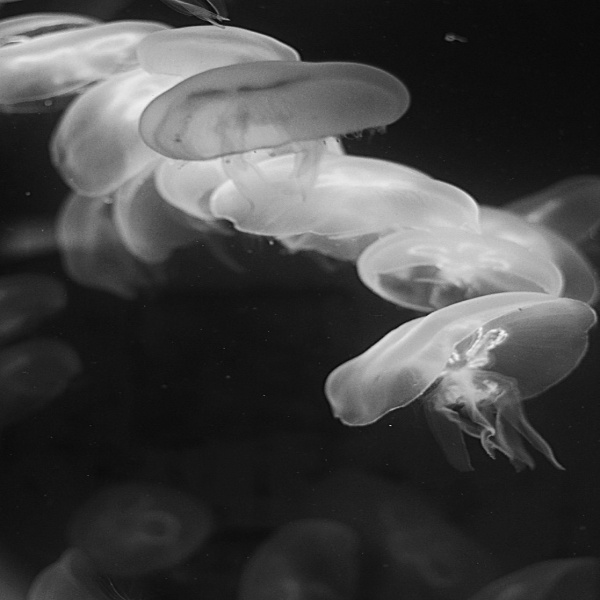Jellyfish: (0, 8, 599, 316), (313, 294, 595, 472)
